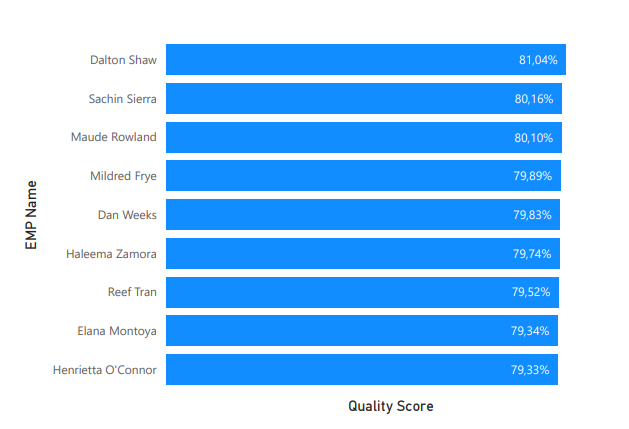

What the dashboard file says about the page in this screenshot:
{"tool":"powerbi","page":{"name":"EMP Tooltip","canvas":[600,400],"ordinal":1},"visuals":[{"type":"clusteredBarChart","fields":{"Y":["Quality Data.Quality Score"],"Category":["Emp Master.EMP Name"]},"box":[0,0,600,400],"z":0}]}

Visuals, with their boxes in screenshot pixels (x1, y1, x2, y2), scaled from the page's 600x400 canvas onto the 629x429 screenshot:
clusteredBarChart - Quality Data.Quality Score x Emp Master.EMP Name: [left=0, top=0, right=628, bottom=428]
